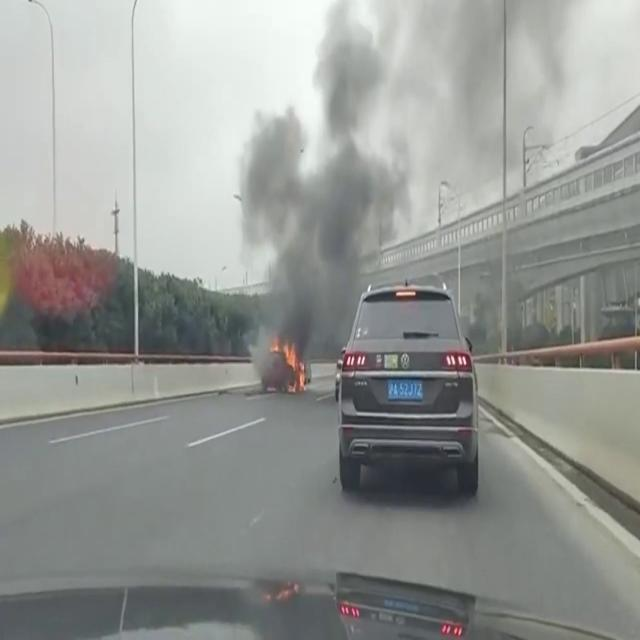single accident: (238, 242, 317, 400)
